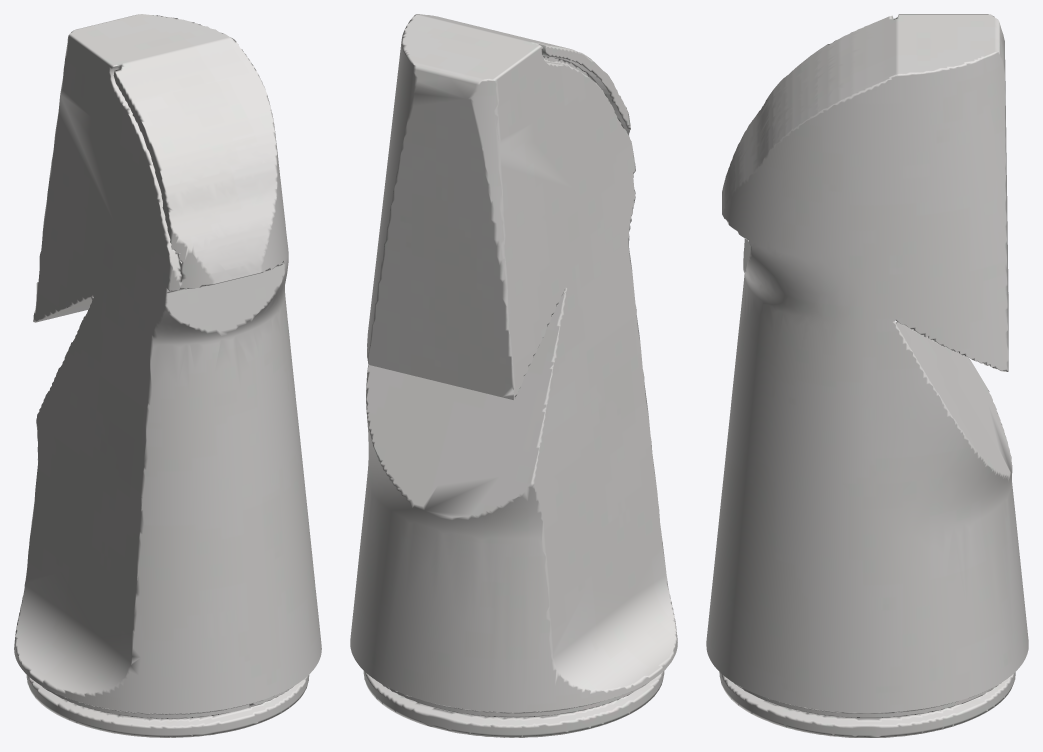
File: knight-white-hd.glb
The picture shows the model from 3 angles, left to right: view 1: azimuth 30°, elevation 25°; view 2: azimuth 150°, elevation 25°; view 3: azimuth 270°, elevation 25°; orthographic projection. The views are drawn at different scales.
Visible parts, largest first — view 1: 04_jezdec_bila; view 2: 04_jezdec_bila; view 3: 04_jezdec_bila.
Part boxes in pixels (x1,y1,x2,y2): 04_jezdec_bila: (14,14,321,737); 04_jezdec_bila: (350,14,677,737); 04_jezdec_bila: (706,14,1028,737).
Size of the model in its own units: 0.6416 by 1.41 by 0.6412.
Materials: 1 (1 with a texture image).
